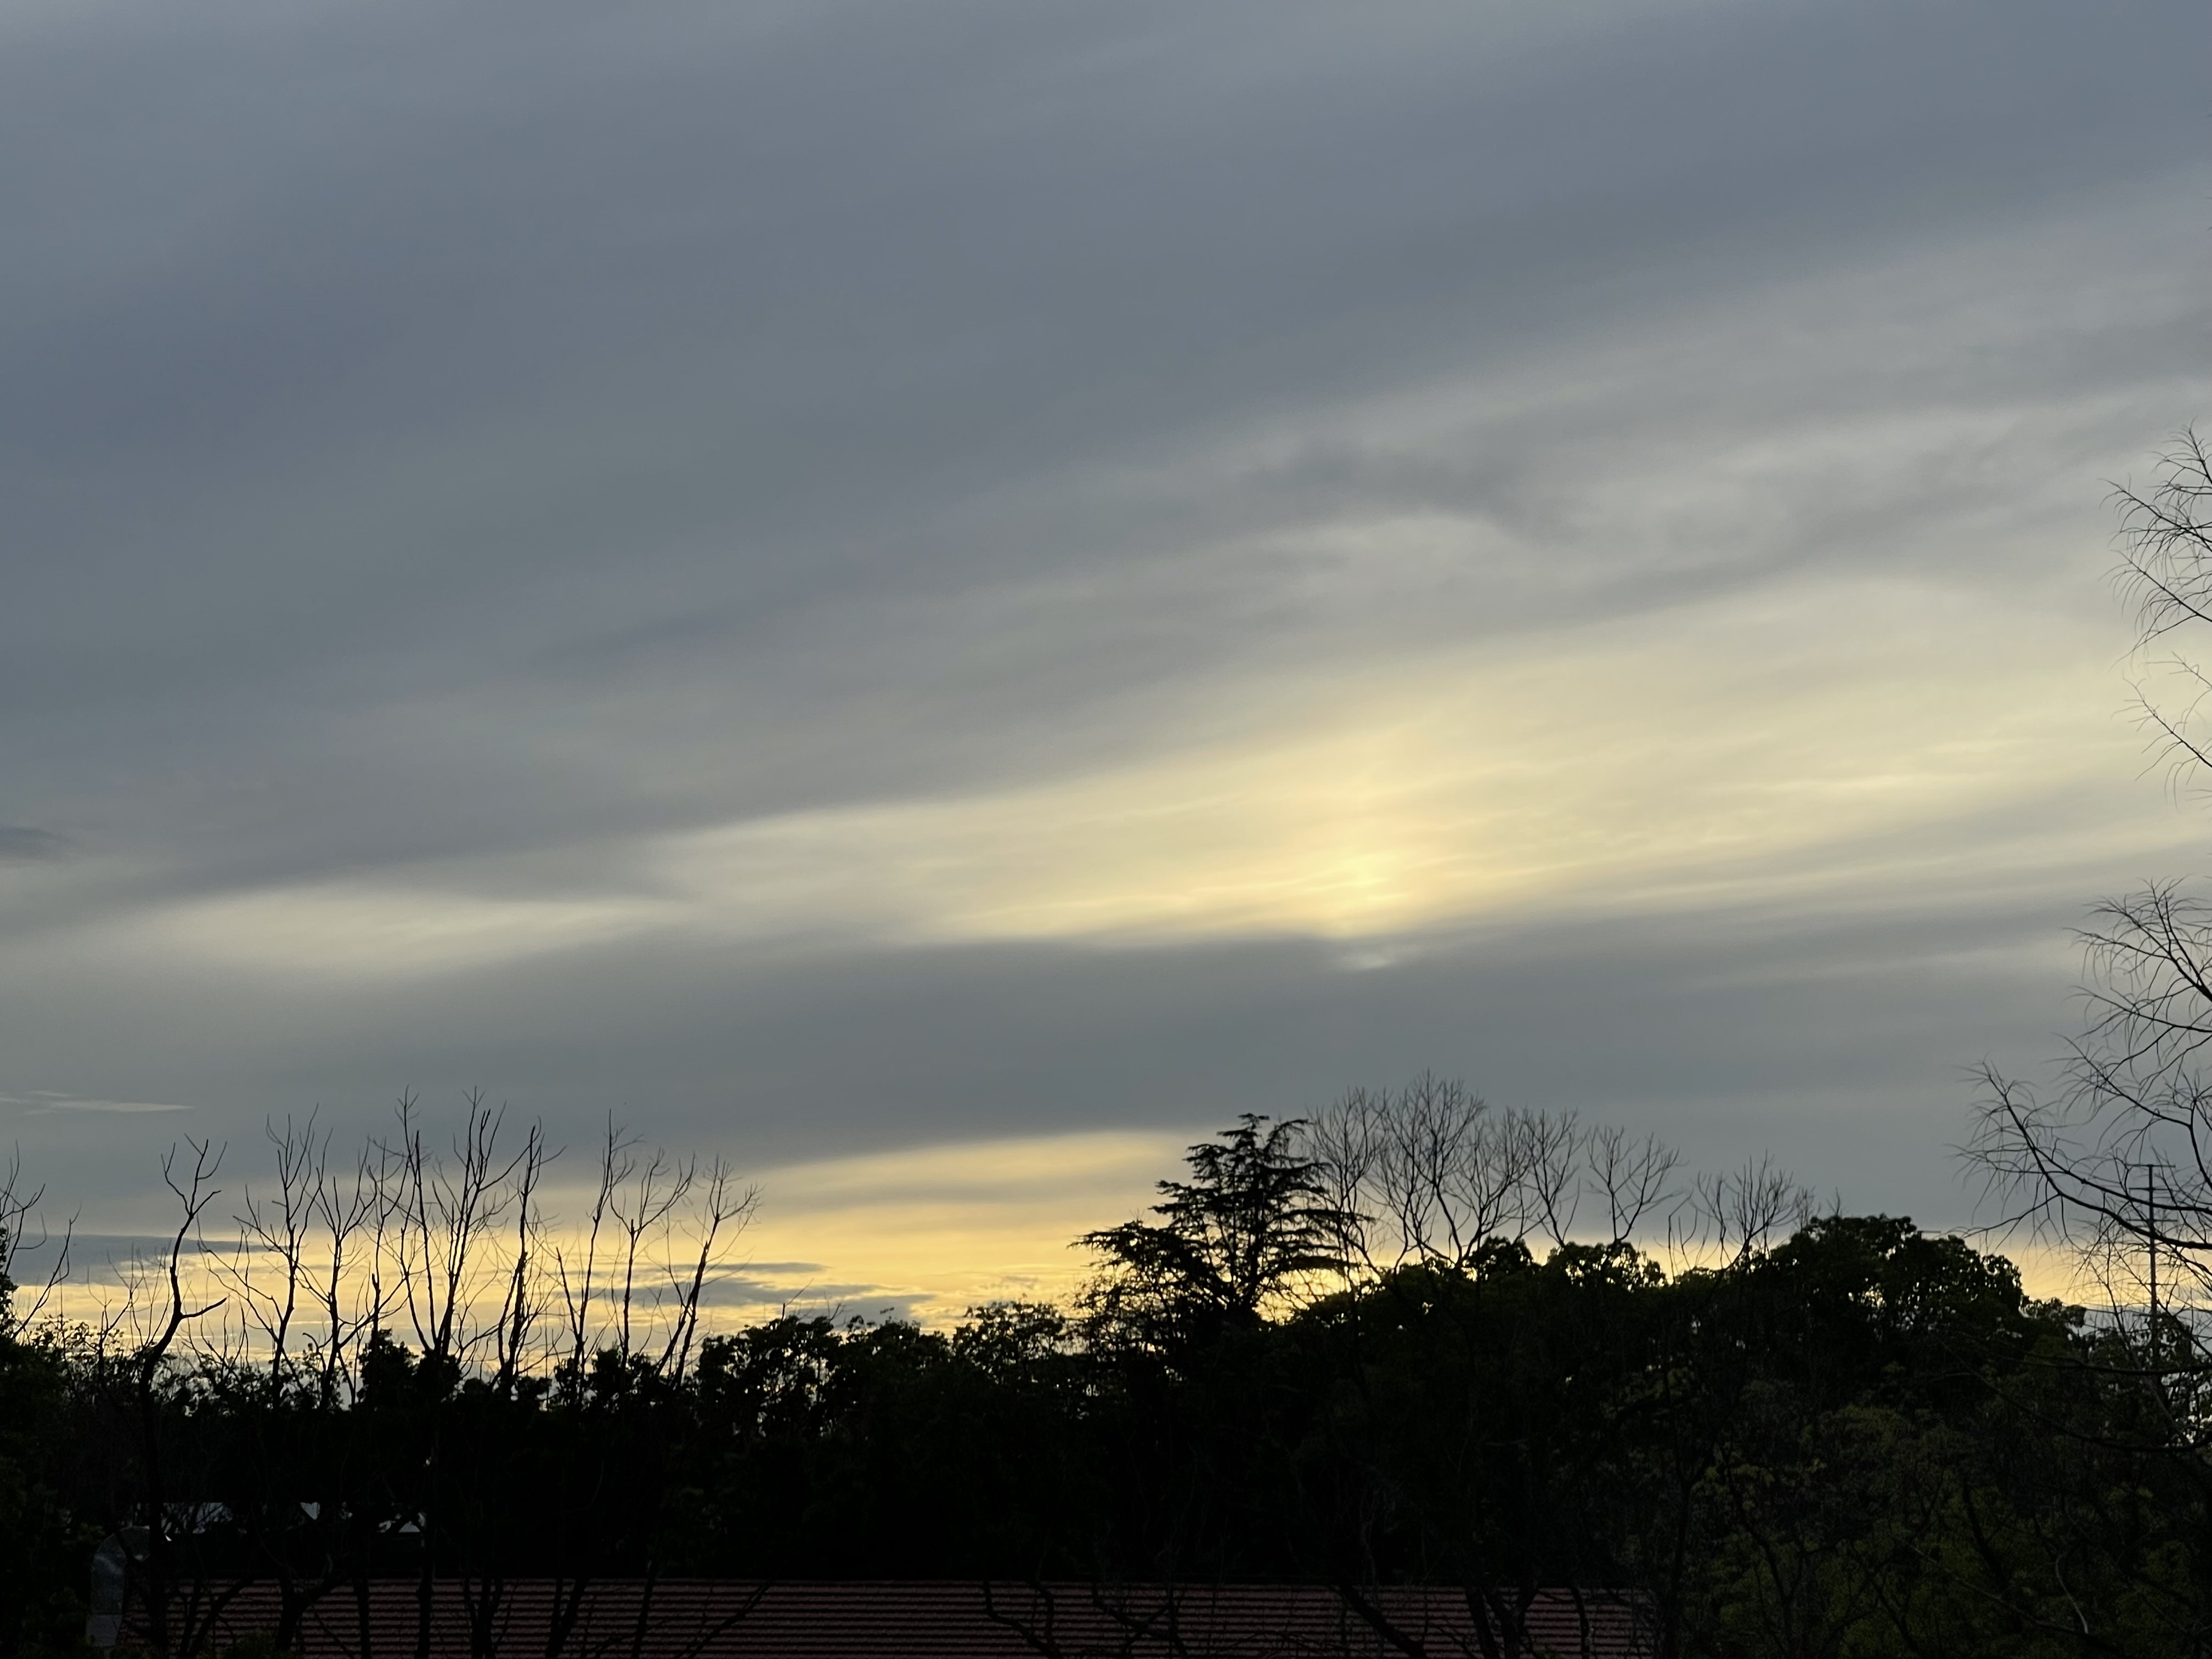Stratus: (47, 10, 2127, 762), (45, 833, 2134, 1230)
